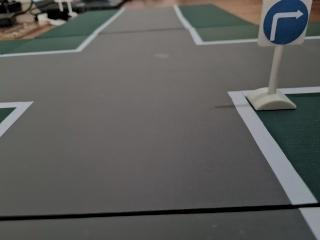right: (263, 1, 312, 47)
